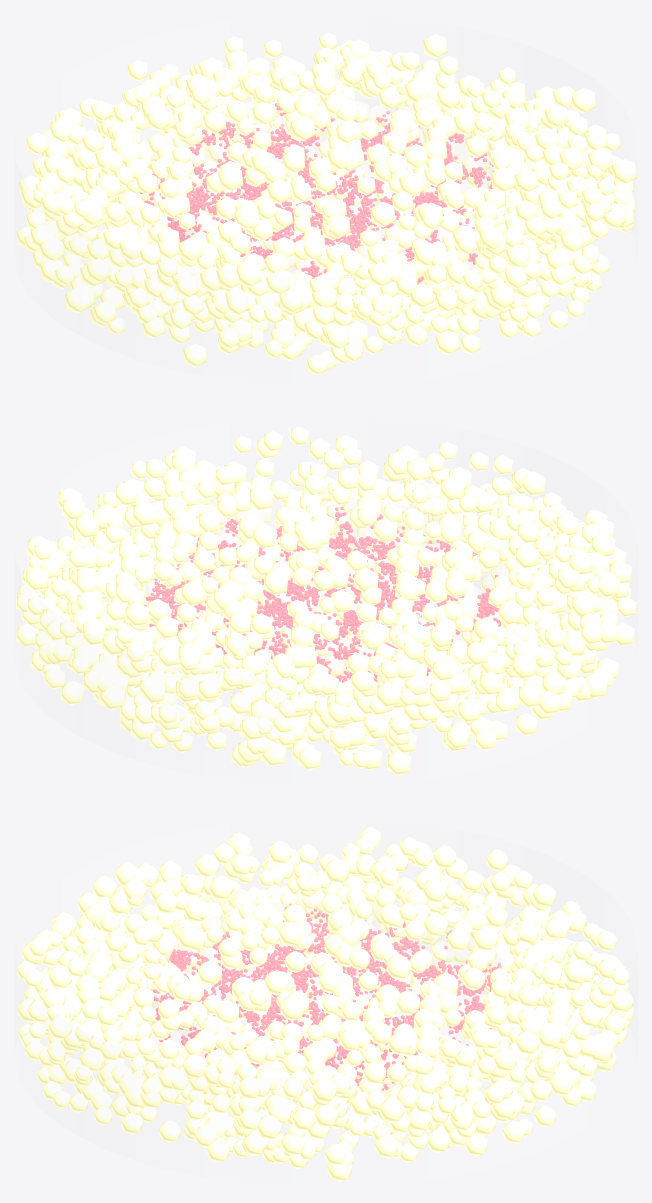
Rendered from Script generation V7.fbx.
3 views of the same model, one above another, from view 1: azimuth 30°, elevation 25°; view 2: azimuth 150°, elevation 25°; view 3: azimuth 270°, elevation 25° (orthographic).
Parts seen in each view (by area): view 1: Icosphere.9388, Icosphere, Cylinder.001; view 2: Icosphere.9388, Icosphere, Cylinder.001; view 3: Icosphere.9388, Icosphere, Cylinder.001.
Part boxes in pixels (left/top/right/bottom): Icosphere.9388: left=17, top=32, right=636, bottom=374; Icosphere: left=140, top=103, right=494, bottom=284; Cylinder.001: left=147, top=98, right=505, bottom=277; Icosphere.9388: left=15, top=426, right=636, bottom=775; Icosphere: left=144, top=506, right=500, bottom=682; Cylinder.001: left=146, top=499, right=505, bottom=697; Icosphere.9388: left=17, top=827, right=633, bottom=1181; Icosphere: left=153, top=903, right=501, bottom=1090; Cylinder.001: left=146, top=900, right=504, bottom=1103.
Bounding box in the file's own units: 5200 × 1026 × 5200.
